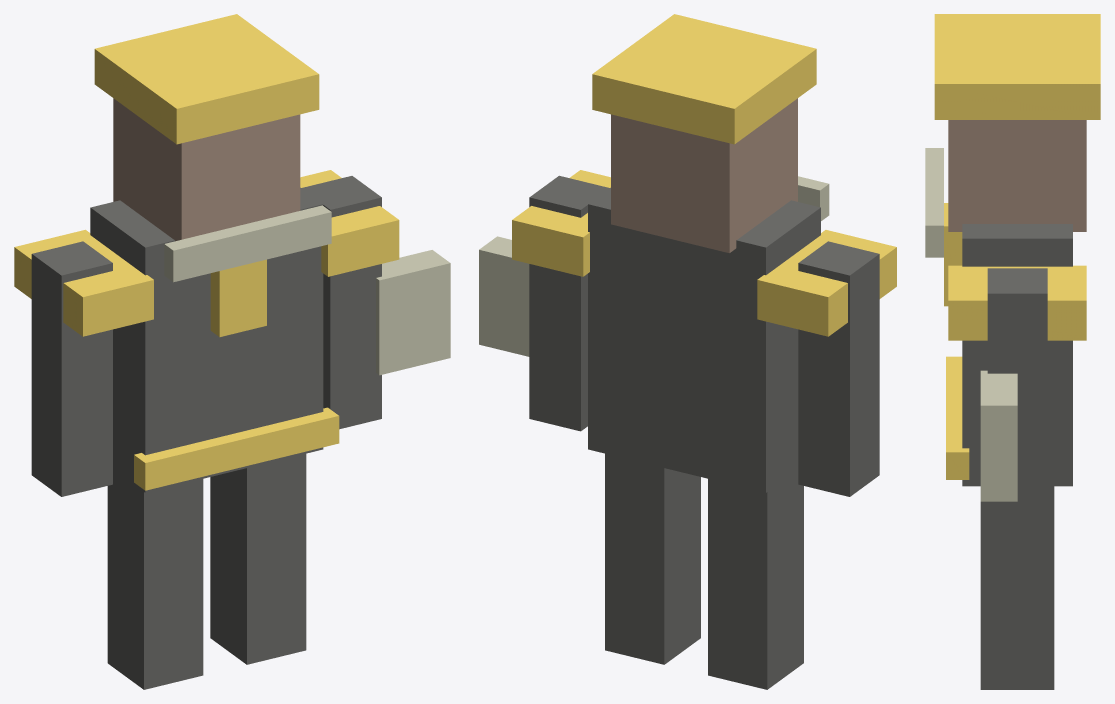
The model's file is 18_isolde_skyharrow_captain_of_heat.glb.
3 views of the same model, side by side, from view 1: azimuth 30°, elevation 25°; view 2: azimuth 150°, elevation 25°; view 3: azimuth 270°, elevation 25° (orthographic).
Visible parts, largest first — view 1: Isolde Skyharrow, Captain of Heat; view 2: Isolde Skyharrow, Captain of Heat; view 3: Isolde Skyharrow, Captain of Heat.
Part boxes in pixels (box(x1,y1,x2,y2)): Isolde Skyharrow, Captain of Heat: box(14, 14, 450, 689); Isolde Skyharrow, Captain of Heat: box(479, 14, 896, 689); Isolde Skyharrow, Captain of Heat: box(925, 14, 1100, 689).
Size of the model in its own units: 1.02 by 1.51 by 0.3985.
